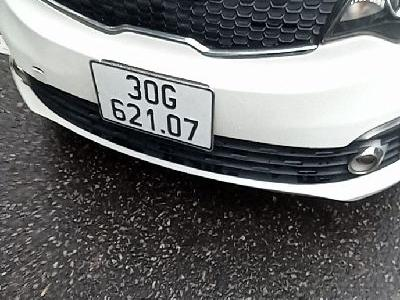lisence: (89, 58, 217, 153)
